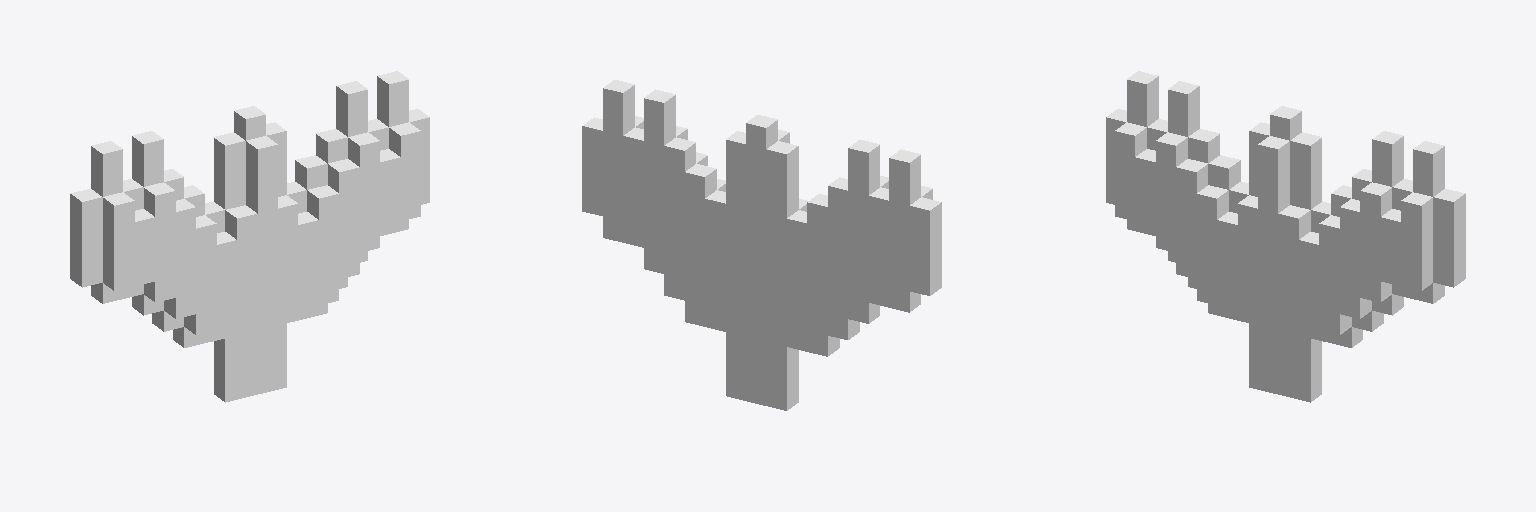
The model's file is brandonator.obj.
3 renders of one model, left to right at view 1: azimuth 30°, elevation 25°; view 2: azimuth 150°, elevation 25°; view 3: azimuth 330°, elevation 25°, orthographic.
Visible parts, largest first — view 1: brandonator; view 2: brandonator; view 3: brandonator.
Part boxes in pixels (left/top/right/bottom): brandonator: left=70, top=71, right=429, bottom=402; brandonator: left=582, top=80, right=941, bottom=410; brandonator: left=1106, top=71, right=1465, bottom=402.
Bounding box in the file's own units: 17 × 13 × 2.